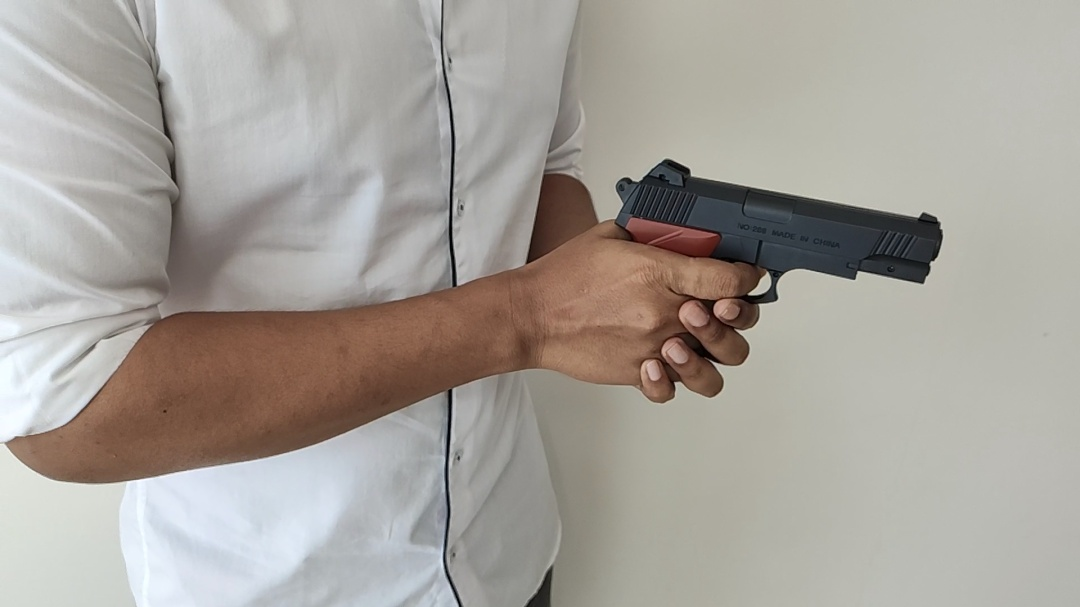gun: (616, 158, 944, 305)
